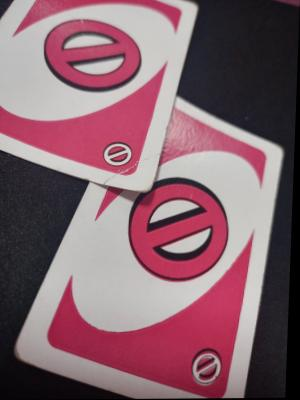skip: (126, 173, 237, 288), (38, 11, 152, 100), (190, 343, 230, 389), (101, 136, 143, 174)
